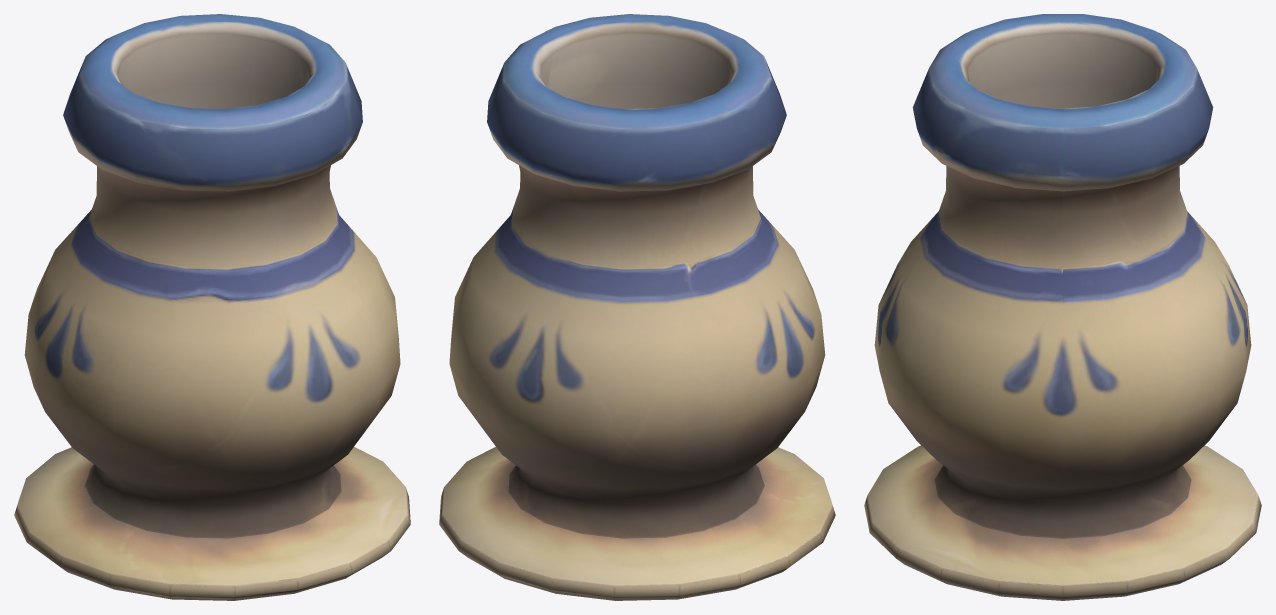
The model's file is DE_Flowerpot_03b.fbx.
The picture shows the model from 3 angles, left to right: view 1: azimuth 30°, elevation 25°; view 2: azimuth 150°, elevation 25°; view 3: azimuth 270°, elevation 25°; orthographic projection.
Parts seen in each view (by area): view 1: DE_Flowerpot_03b; view 2: DE_Flowerpot_03b; view 3: DE_Flowerpot_03b.
Part boxes in pixels (bbox=[...]): DE_Flowerpot_03b: bbox=[14, 14, 410, 600]; DE_Flowerpot_03b: bbox=[439, 14, 835, 600]; DE_Flowerpot_03b: bbox=[864, 14, 1261, 600].
Bounding box in the file's own units: 2.29 × 2.92 × 2.3.
